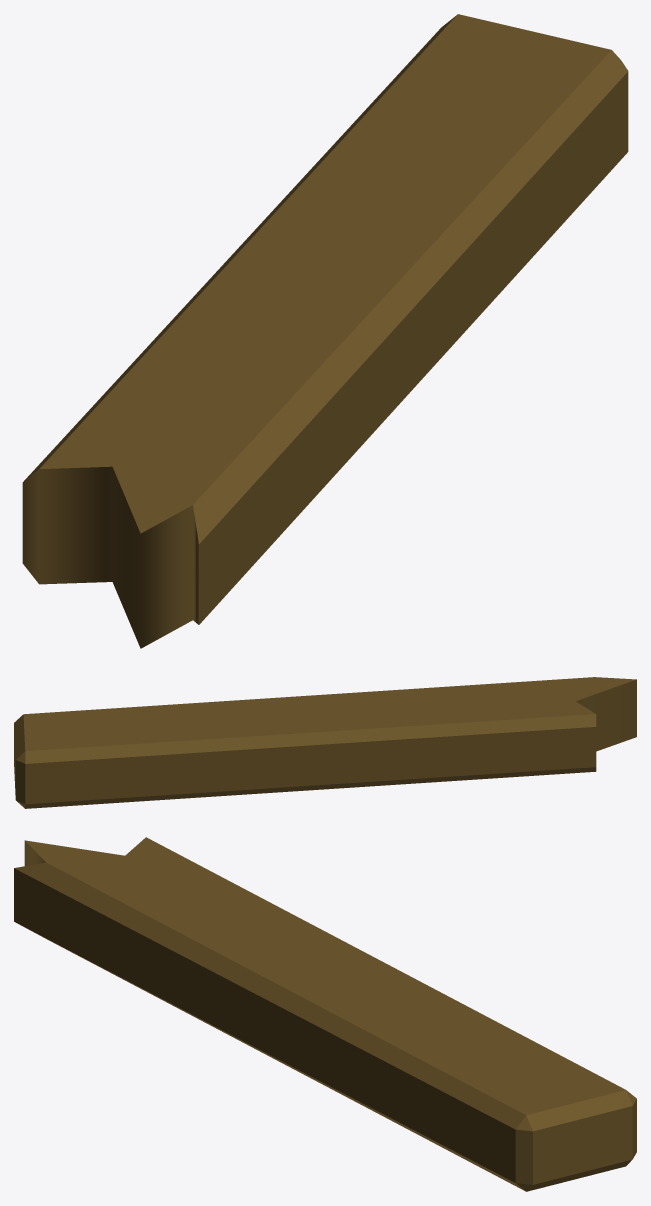
Rendered from SM_Plank1_Placeholder.fbx.
The picture shows the model from 3 angles, top to bottom: view 1: azimuth 30°, elevation 25°; view 2: azimuth 150°, elevation 25°; view 3: azimuth 270°, elevation 25°; orthographic projection. The views are drawn at different scales.
Visible parts, largest first — view 1: SM_Plank1_Placeholder; view 2: SM_Plank1_Placeholder; view 3: SM_Plank1_Placeholder.
Boxes of the visible parts, left/top/right/bottom form: SM_Plank1_Placeholder: left=22, top=14, right=628, bottom=648; SM_Plank1_Placeholder: left=14, top=677, right=636, bottom=808; SM_Plank1_Placeholder: left=14, top=837, right=636, bottom=1191.
Size of the model in its own units: 174 by 21.72 by 160.
